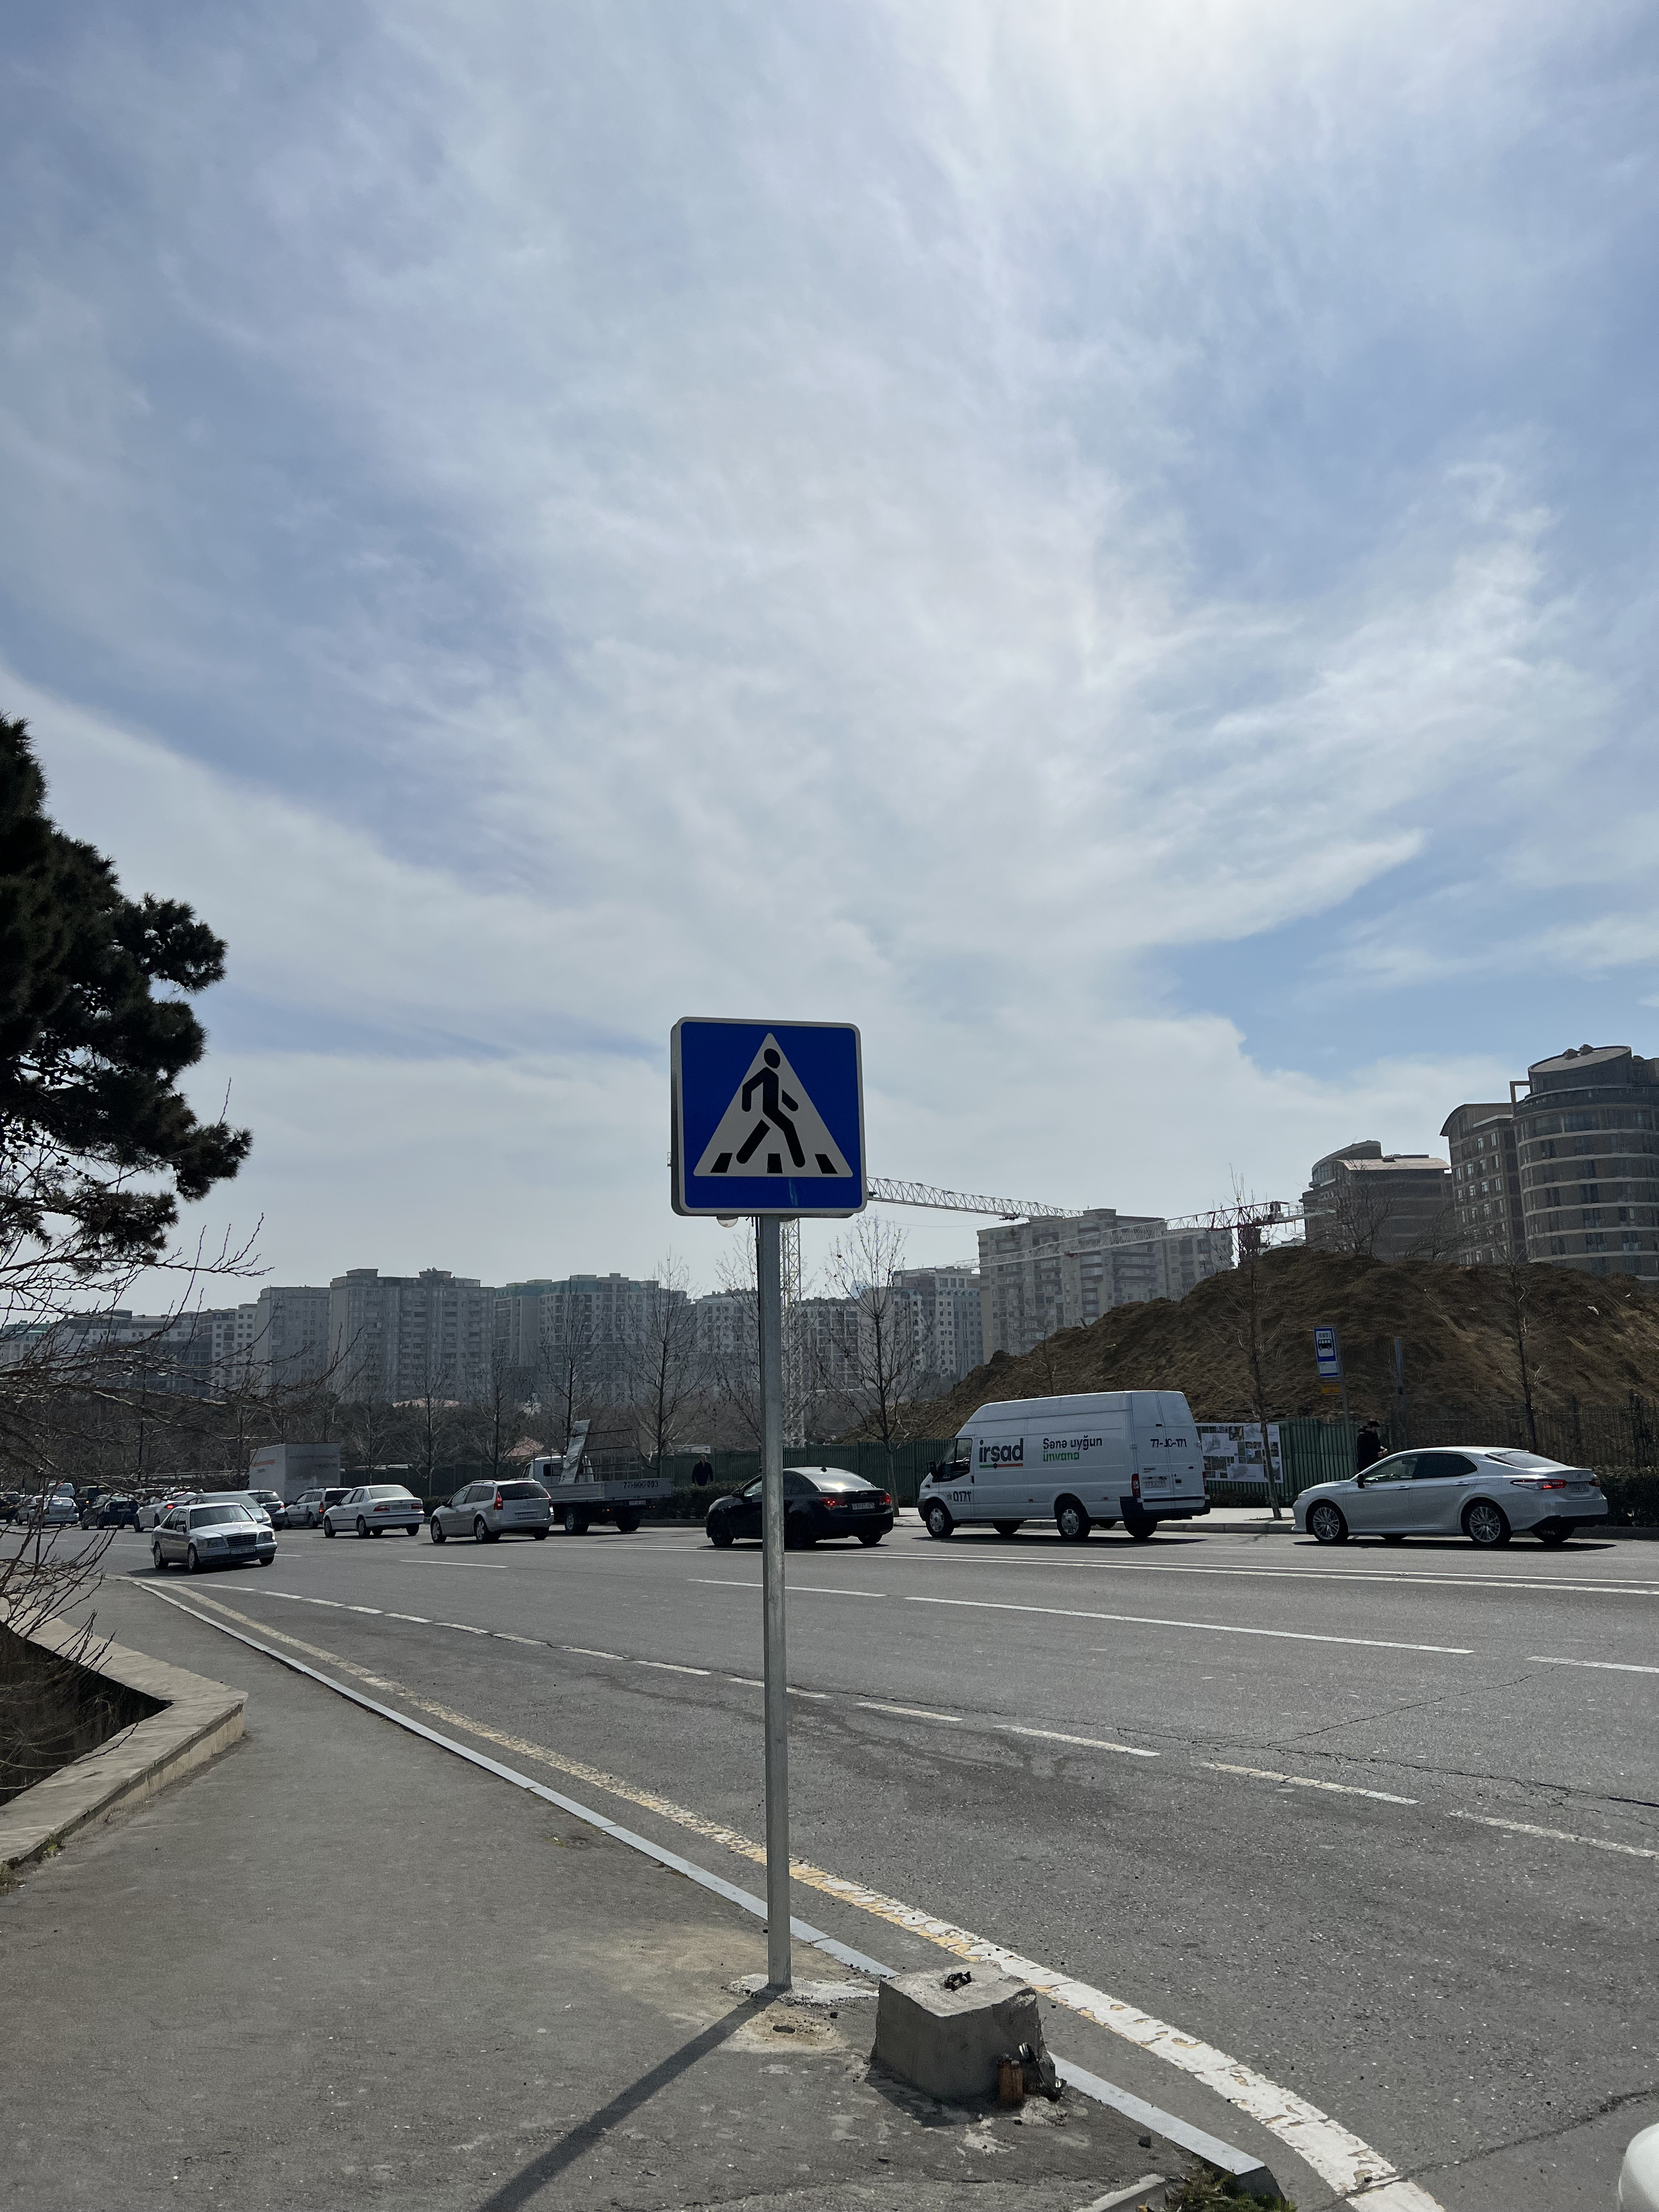Pedestrian Crossing: (671, 1015, 864, 1214)
